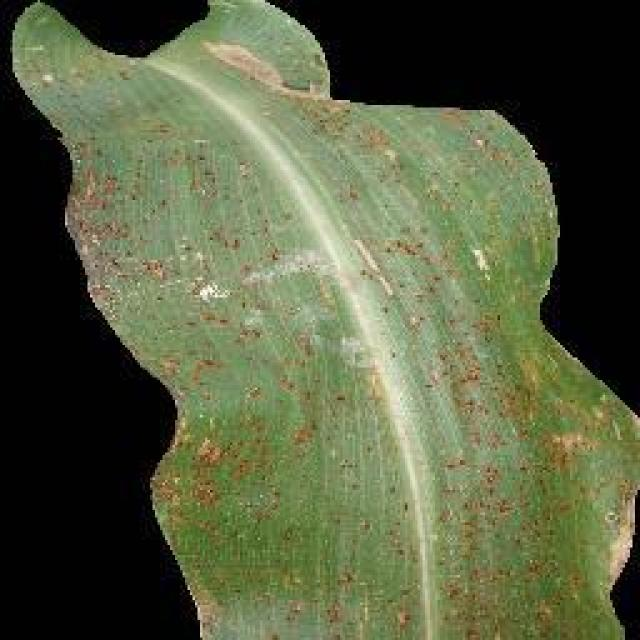Corn Common Rust: (140, 82, 555, 578)
